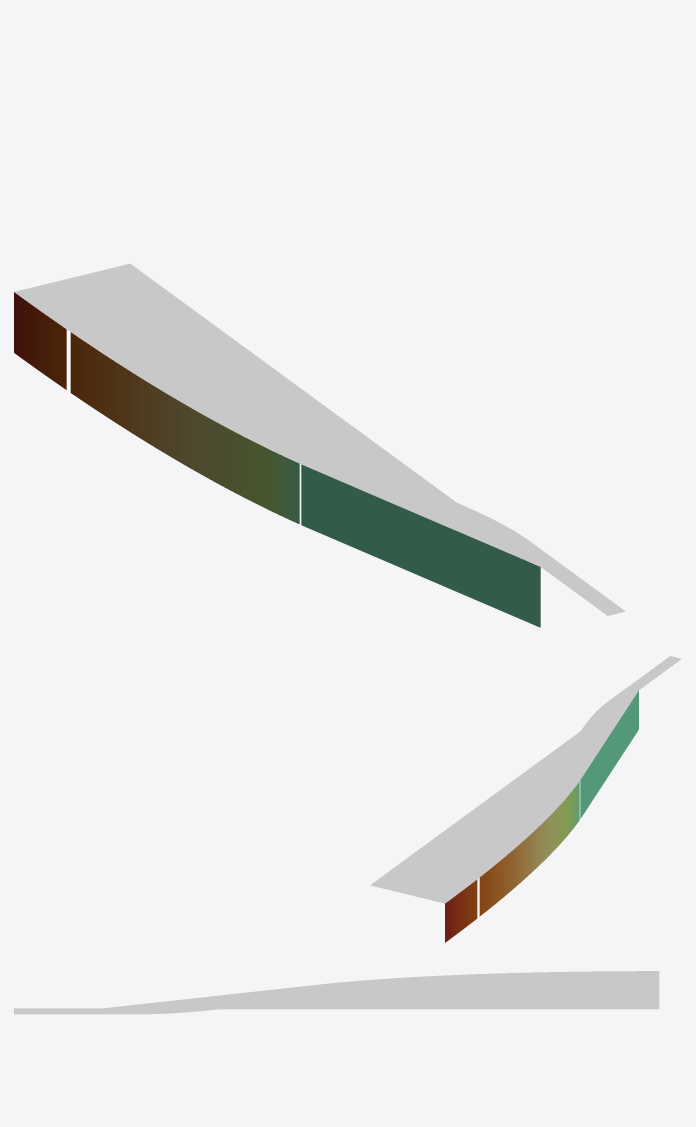
File: scramjet_n100_m38.glb
3 renders of one model, top to bottom at view 1: azimuth 30°, elevation 25°; view 2: azimuth 150°, elevation 25°; view 3: azimuth 270°, elevation 25°, orthographic. The views are drawn at different scales.
Visible parts, largest first — view 1: Renderer Node; view 2: Renderer Node; view 3: Renderer Node.
Boxes of the visible parts, x1=… form: Renderer Node: x1=14, y1=263, x2=625, y2=627; Renderer Node: x1=370, y1=656, x2=681, y2=942; Renderer Node: x1=14, y1=971, x2=659, y2=1014.
Bounding box in the file's own units: 5.6 × 1.38 × 7.41.
